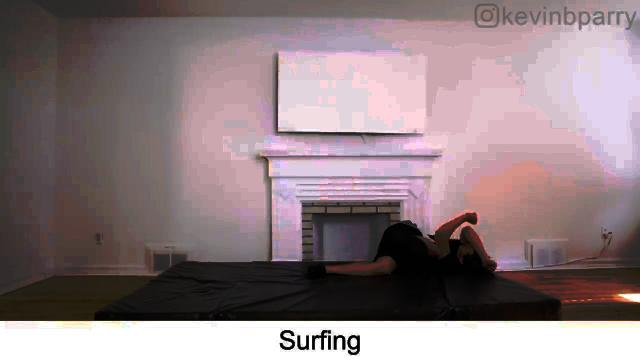jatuh: (300, 196, 500, 300)
